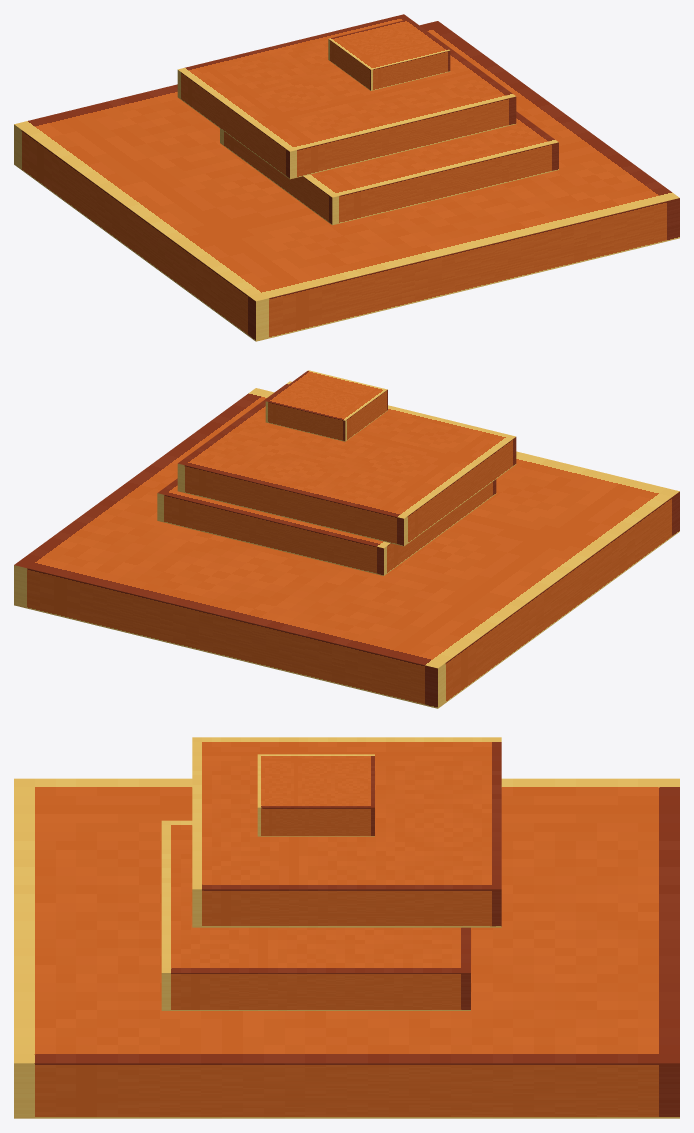
Rendered from bench_chestplate_0_hot.obj.
3 renders of one model, top to bottom at view 1: azimuth 30°, elevation 25°; view 2: azimuth 150°, elevation 25°; view 3: azimuth 270°, elevation 25°, orthographic. The views are drawn at different scales.
Parts seen in each view (by area): view 1: geometry; view 2: geometry; view 3: geometry.
Part boxes in pixels (x1,y1,x2,y2): geometry: [14, 14, 679, 341]; geometry: [14, 370, 679, 708]; geometry: [14, 737, 679, 1118].
Size of the model in its own units: 0.7051 by 0.25 by 0.6971.
